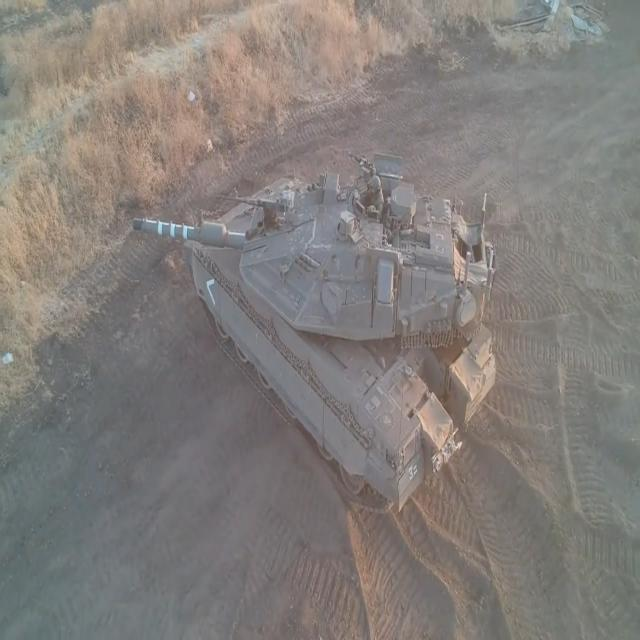tank: (126, 148, 520, 526)
